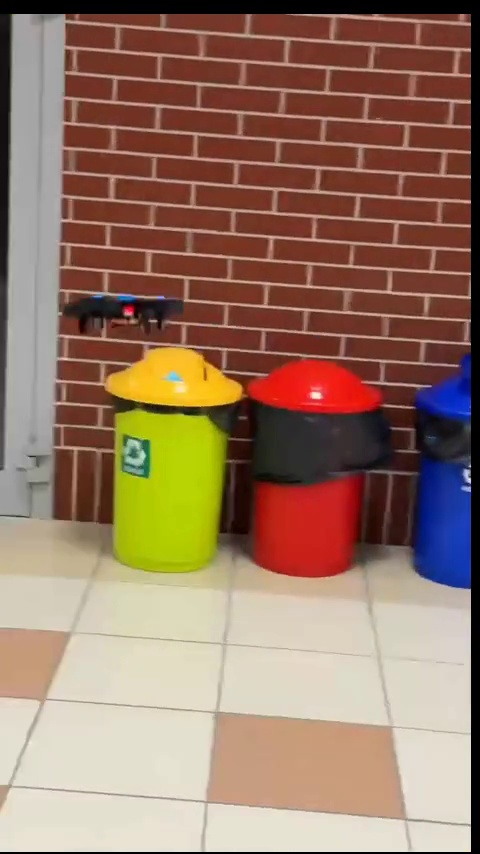drone: (62, 292, 181, 335)
